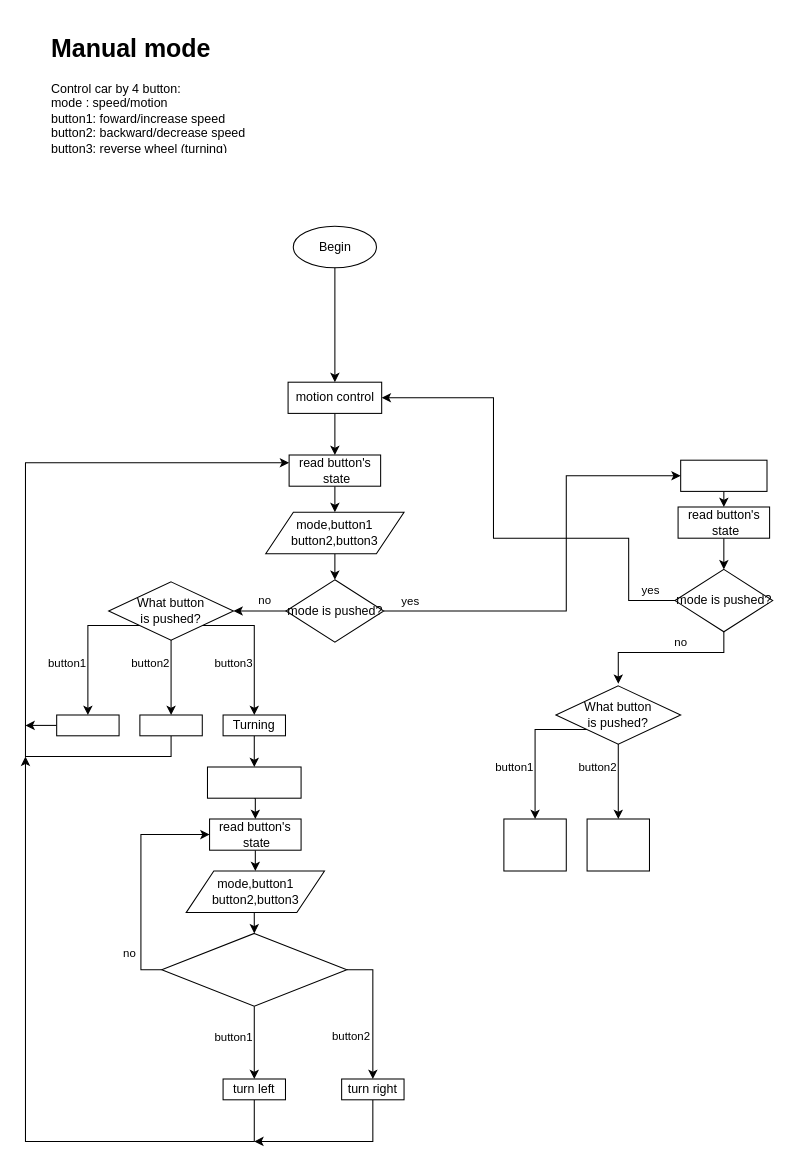
This 791x1168 diagram has some shape labels left out. Each missing label, with the centre of its shape:
Backward: (170,725)
button1 or button2 is pushed?: (254,969)
Decrease speed by 100: (617,844)
Foward: (87,725)
Increase speed by 100: (534,844)
reverse left wheel: (253,782)
speed change: (723,475)
